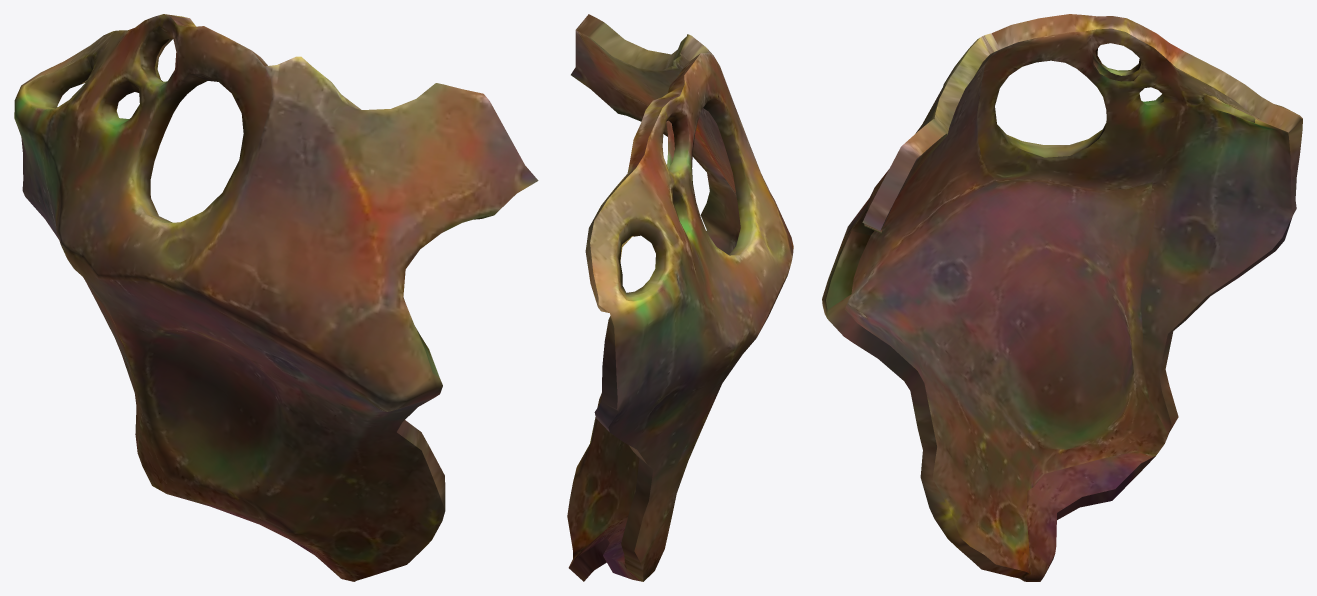
3 renders of one model, left to right at view 1: azimuth 30°, elevation 25°; view 2: azimuth 150°, elevation 25°; view 3: azimuth 270°, elevation 25°, orthographic. The views are drawn at different scales.
Visible parts, largest first — view 1: SM_Poison_Rock_Piece_01_LOD0; view 2: SM_Poison_Rock_Piece_01_LOD0; view 3: SM_Poison_Rock_Piece_01_LOD0.
Part boxes in pixels (x1,y1,x2,y2): SM_Poison_Rock_Piece_01_LOD0: (14,14,538,581); SM_Poison_Rock_Piece_01_LOD0: (567,14,793,581); SM_Poison_Rock_Piece_01_LOD0: (822,14,1302,581).
Bounding box in the file's own units: 1.44 × 2.44 × 2.07.
Materials: 1 (1 with a texture image).
